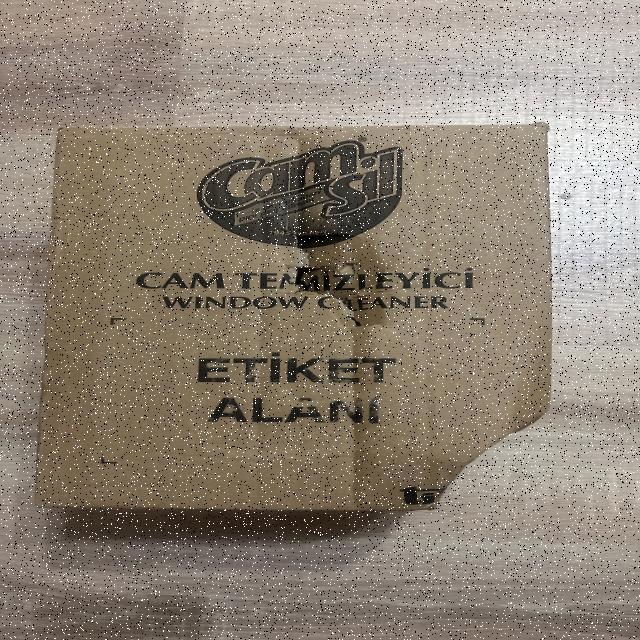damaged: (48, 118, 560, 516), (268, 211, 388, 313), (420, 413, 546, 507)
